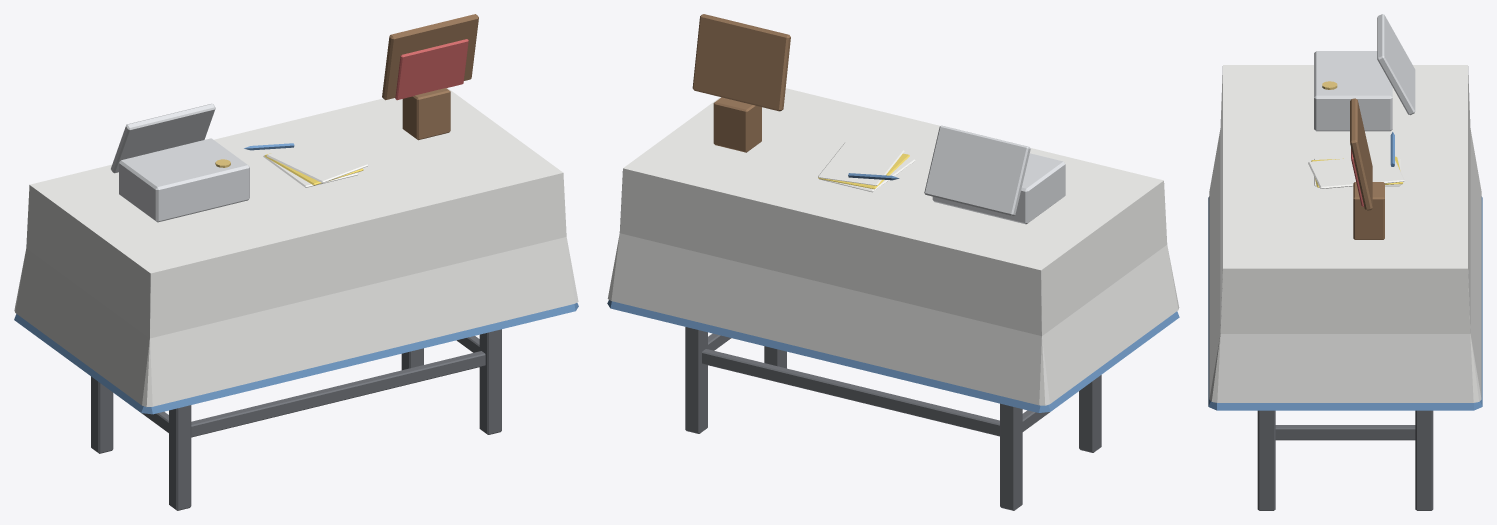
The picture shows the model from 3 angles, left to right: view 1: azimuth 30°, elevation 25°; view 2: azimuth 150°, elevation 25°; view 3: azimuth 270°, elevation 25°; orthographic projection.
Visible parts, largest first — view 1: welcome-table; view 2: welcome-table; view 3: welcome-table.
Boxes of the visible parts, left/top/right/bottom form: welcome-table: left=14, top=14, right=578, bottom=510; welcome-table: left=607, top=14, right=1179, bottom=510; welcome-table: left=1208, top=14, right=1482, bottom=510.
Bounding box in the file's own units: 1.3 × 1.07 × 0.696.
